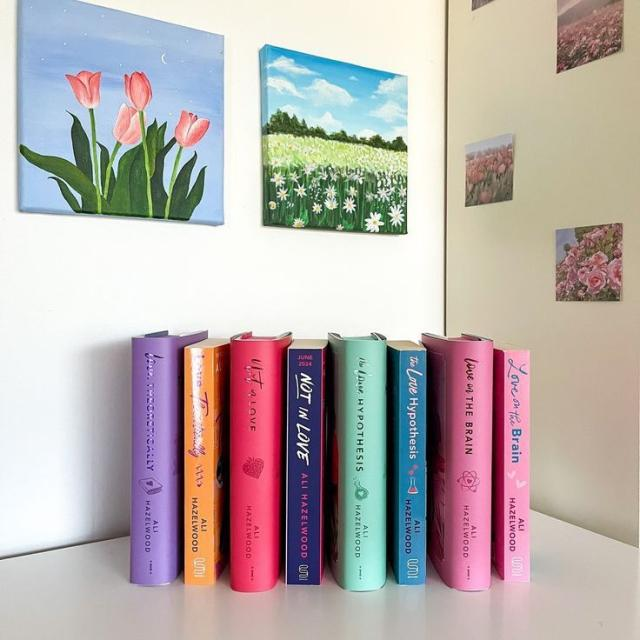book: (231, 339, 277, 591), (340, 339, 384, 593), (450, 344, 493, 590), (132, 338, 172, 585), (288, 348, 322, 584), (186, 347, 216, 588), (400, 351, 427, 586), (505, 352, 530, 582)
